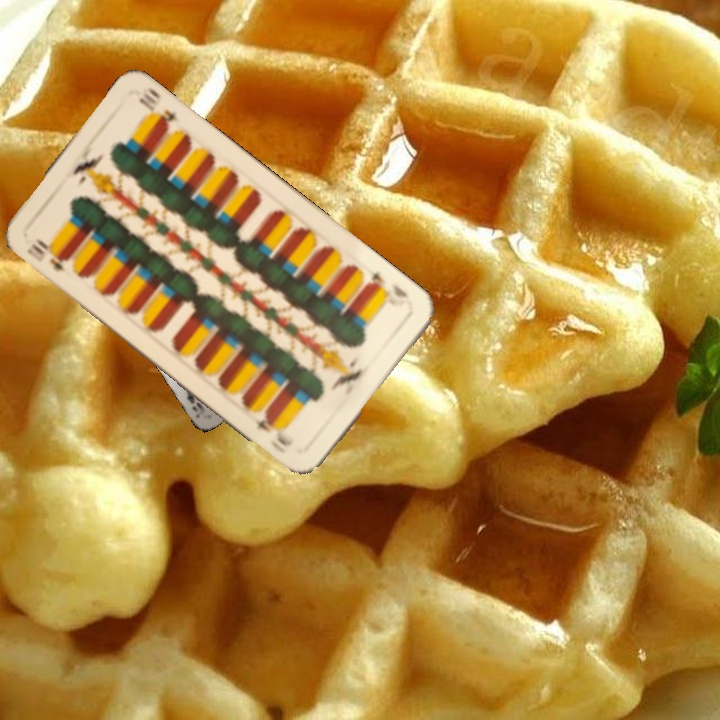E10: (23, 235, 70, 275), (362, 266, 411, 301)
